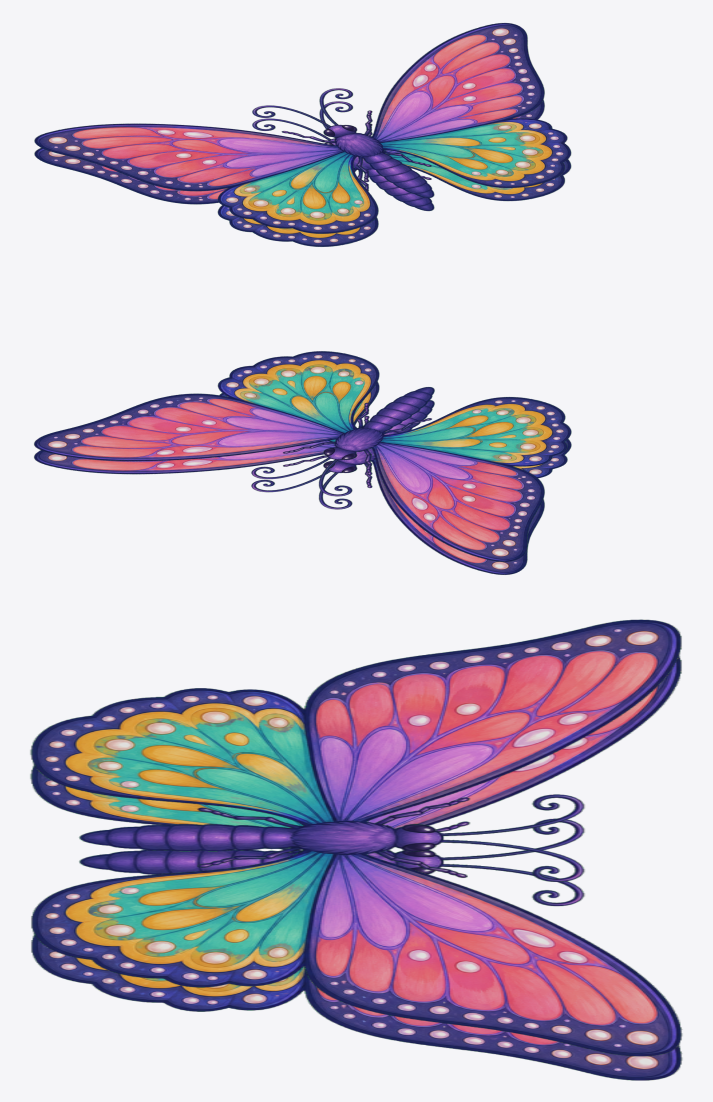
File: butterfly.glb
3 renders of one model, top to bottom at view 1: azimuth 30°, elevation 25°; view 2: azimuth 150°, elevation 25°; view 3: azimuth 270°, elevation 25°, orthographic. The views are drawn at different scales.
Visible parts, largest first — view 1: butterfly; view 2: butterfly; view 3: butterfly.
Boxes of the visible parts, <box> form: butterfly: <box>34,23,571,246</box>; butterfly: <box>34,351,571,574</box>; butterfly: <box>30,619,682,1080</box>.
Bounding box in the file's own units: 2 × 0.05 × 1.28.
1 material, 1 textured.
